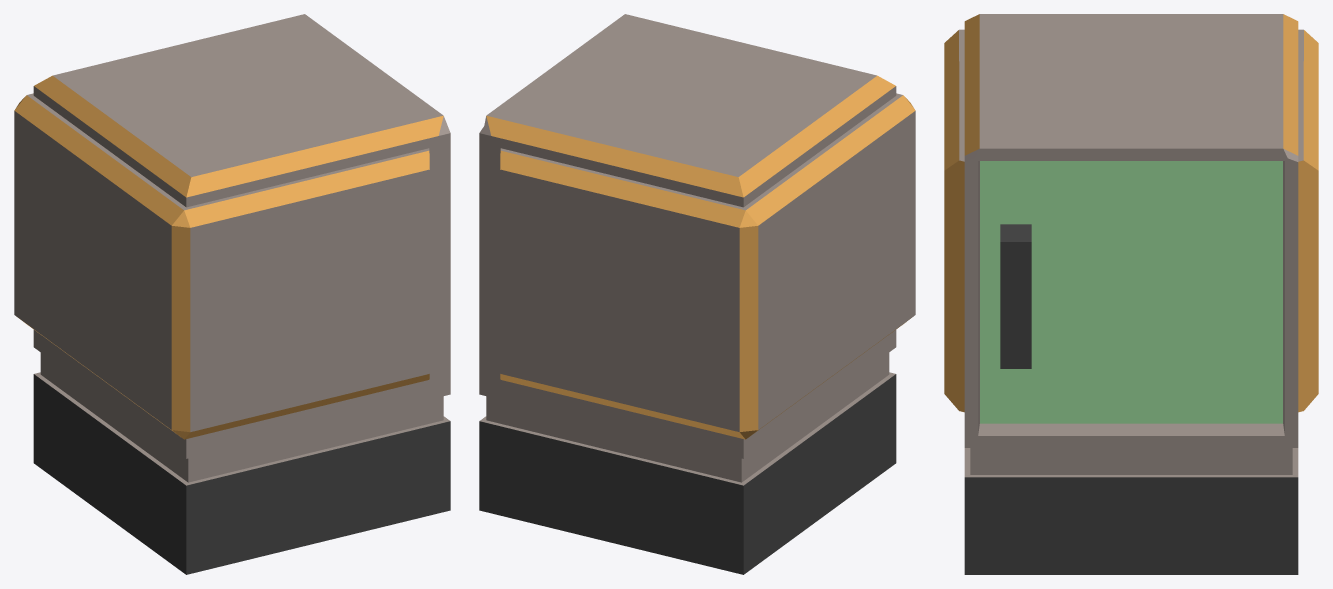
Rendered from electric furnace.glb.
3 renders of one model, left to right at view 1: azimuth 30°, elevation 25°; view 2: azimuth 150°, elevation 25°; view 3: azimuth 270°, elevation 25°, orthographic. The views are drawn at different scales.
Parts seen in each view (by area): view 1: 立方体; view 2: 立方体; view 3: 立方体.
Part boxes in pixels (x1,y1,x2,y2): 立方体: [14, 14, 450, 574]; 立方体: [479, 14, 915, 574]; 立方体: [944, 14, 1318, 574].
Bounding box in the file's own units: 0.9505 × 1.2 × 0.9557.
